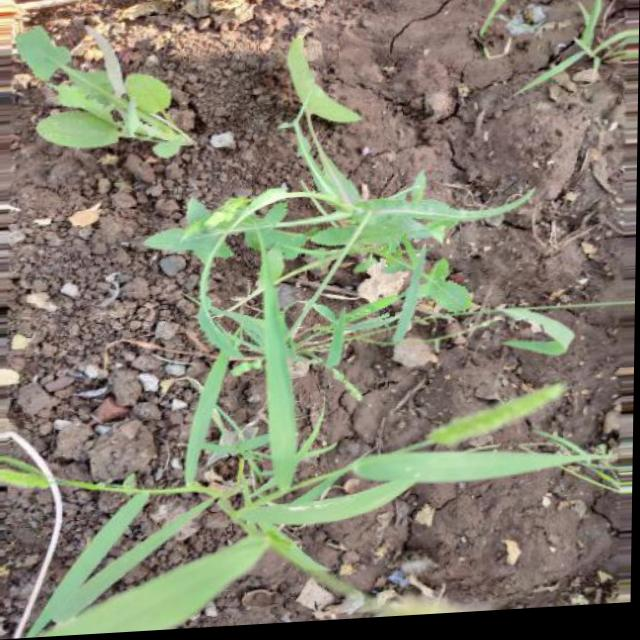weed: (167, 180, 511, 469), (9, 10, 225, 177)
